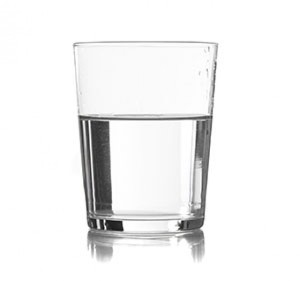glass of water: (85, 53, 199, 226)
